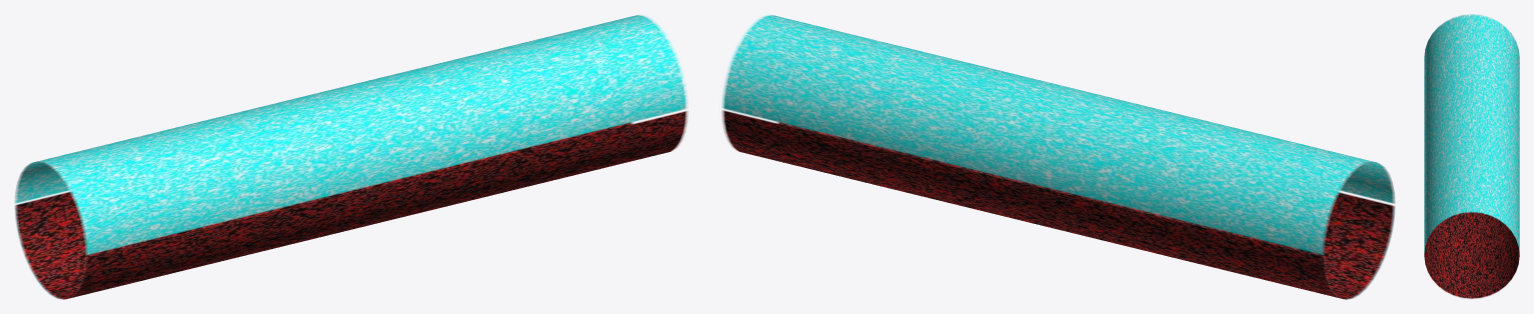
The picture shows the model from 3 angles, left to right: view 1: azimuth 30°, elevation 25°; view 2: azimuth 150°, elevation 25°; view 3: azimuth 270°, elevation 25°; orthographic projection. The views are drawn at different scales.
Visible parts, largest first — view 1: SM_VFX_HundredUnitTube_LOD0; view 2: SM_VFX_HundredUnitTube_LOD0; view 3: SM_VFX_HundredUnitTube_LOD0.
Part boxes in pixels (<box>): SM_VFX_HundredUnitTube_LOD0: <box>14,15,687,299</box>; SM_VFX_HundredUnitTube_LOD0: <box>722,15,1395,299</box>; SM_VFX_HundredUnitTube_LOD0: <box>1424,14,1519,298</box>.
Bounding box in the file's own units: 1 × 0.2022 × 0.2022.
Materials: 1 (1 with a texture image).
